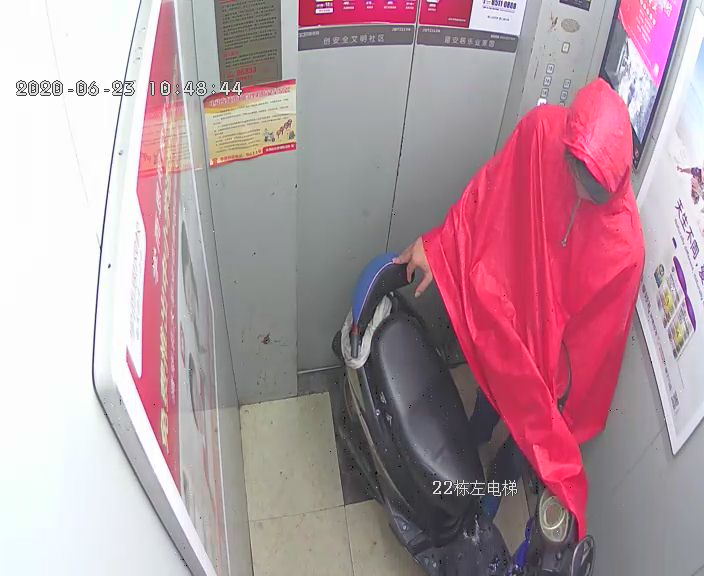Electric-bicycle: (349, 254, 594, 575)
